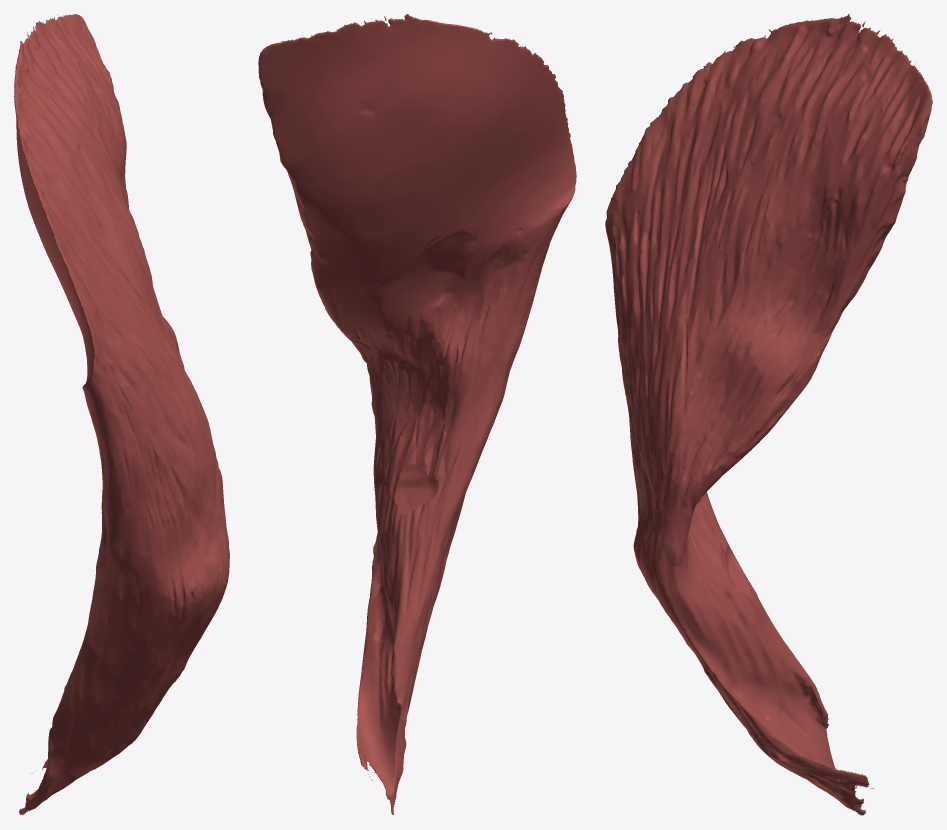
The model's file is FMA22322.glb.
The picture shows the model from 3 angles, left to right: view 1: azimuth 30°, elevation 25°; view 2: azimuth 150°, elevation 25°; view 3: azimuth 270°, elevation 25°; orthographic projection. The views are drawn at different scales.
Parts seen in each view (by area): view 1: FMA22322; view 2: FMA22322; view 3: FMA22322.
Part boxes in pixels (bbox=[...]): FMA22322: bbox=[14, 14, 229, 814]; FMA22322: bbox=[258, 14, 576, 814]; FMA22322: bbox=[605, 14, 932, 815].
Bounding box in the file's own units: 0.0544 × 0.2245 × 0.0835.
